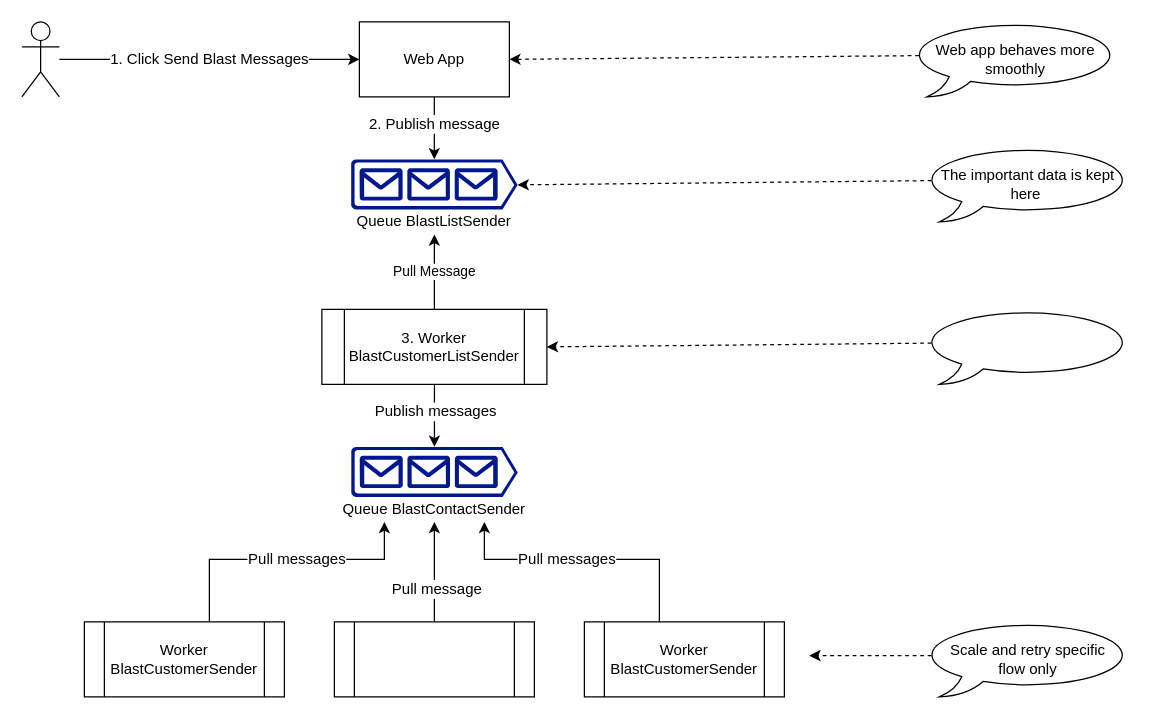
Image size: 1156x719. Some labels were removed from this diagram. Each missing label, with the box of its shape:
4. Worker BlastCustomerSender: (333, 621, 534, 697)
The data is ensured to be processed: (921, 308, 1134, 384)
User: (21, 21, 59, 97)
